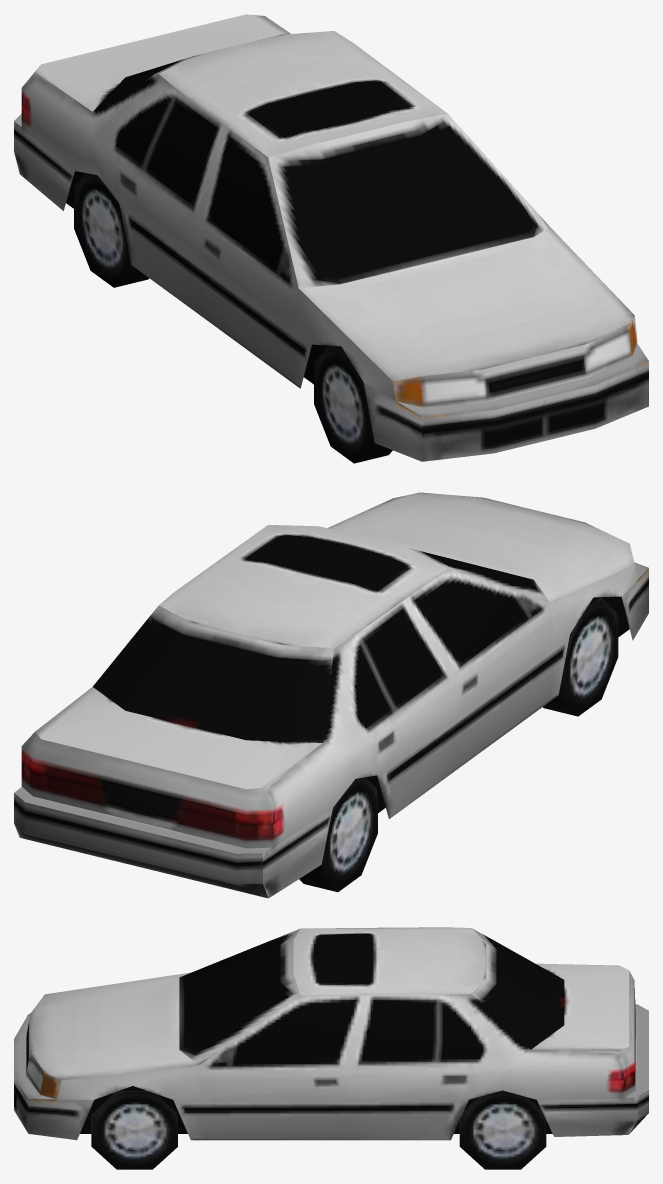
Rendered from Car_HondaAccord.fbx.
The picture shows the model from 3 angles, top to bottom: view 1: azimuth 30°, elevation 25°; view 2: azimuth 150°, elevation 25°; view 3: azimuth 270°, elevation 25°; orthographic projection. The views are drawn at different scales.
Visible parts, largest first — view 1: Car_HondaAccord; view 2: Car_HondaAccord; view 3: Car_HondaAccord.
Boxes of the visible parts, x1,y1,x2,y2 form: Car_HondaAccord: (14, 14, 648, 463); Car_HondaAccord: (14, 492, 648, 898); Car_HondaAccord: (14, 927, 648, 1169).
Bounding box in the file's own units: 1.69 × 1.37 × 4.69.
Materials: 1 (1 with a texture image).
